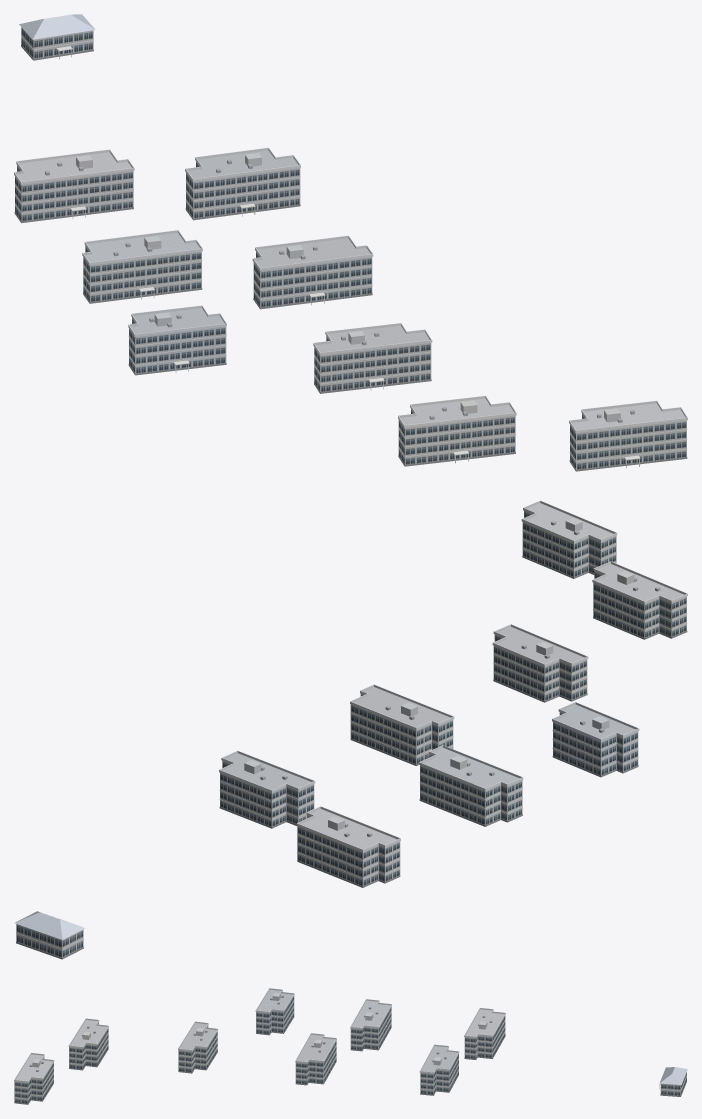
3 views of the same model, one above another, from view 1: azimuth 30°, elevation 25°; view 2: azimuth 150°, elevation 25°; view 3: azimuth 270°, elevation 25° (orthographic). The views are drawn at different scales.
Visible parts, largest first — view 1: 1503264521, 1503264522, 1503264520, 1503264517, 1503264516, 1503264515, 1503264514, 1503264519, 1503263382; view 2: 1503264520, 1503264522, 1503264521, 1503264517, 1503264516, 1503264514, 1503264515, 1503264519, 1503263382; view 3: 1503264522, 1503264520, 1503264521, 1503264515, 1503264516, 1503264517, 1503264514, 1503264519, 1503263382.
Boxes of the visible parts, box(x1,y1,x2,y2) form: 1503264521: box(252, 235, 373, 309); 1503264522: box(82, 230, 202, 303); 1503264520: box(14, 149, 134, 223); 1503264517: box(313, 323, 432, 393); 1503264516: box(398, 395, 516, 466); 1503264515: box(569, 400, 687, 471); 1503264514: box(185, 147, 300, 220); 1503264519: box(128, 305, 226, 375); 1503263382: box(19, 14, 95, 60); 1503264520: box(296, 806, 400, 887); 1503264522: box(419, 745, 523, 826); 1503264521: box(350, 684, 454, 765); 1503264517: box(492, 624, 588, 702); 1503264516: box(592, 561, 687, 639); 1503264514: box(219, 750, 315, 828); 1503264515: box(521, 500, 617, 578); 1503264519: box(552, 702, 639, 777); 1503263382: box(14, 911, 85, 959); 1503264522: box(350, 999, 391, 1051); 1503264520: box(464, 1007, 505, 1059); 1503264521: box(295, 1033, 336, 1085); 1503264515: box(14, 1052, 54, 1104); 1503264516: box(68, 1018, 108, 1070); 1503264517: box(178, 1021, 218, 1073); 1503264514: box(419, 1044, 459, 1095); 1503264519: box(255, 988, 294, 1035); 1503263382: box(659, 1067, 687, 1096).
Size of the model in its own units: 135 by 18 by 413.
Materials: 4 (3 with a texture image).
